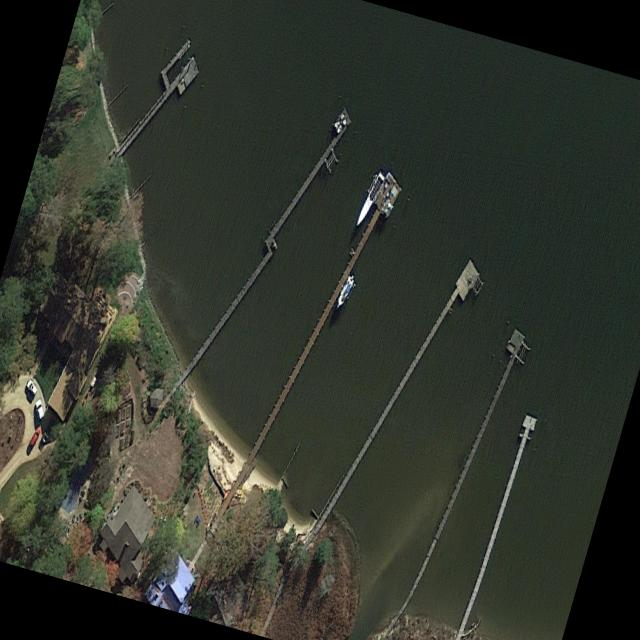ship: (353, 168, 385, 228), (334, 271, 354, 309)
small-vehicle: (27, 424, 40, 447), (24, 375, 37, 394), (34, 395, 43, 421)
